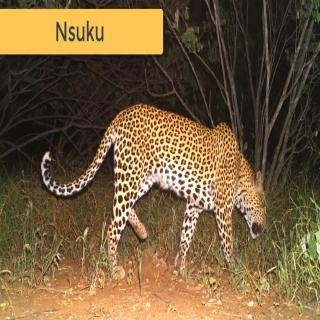Leopard: (41, 102, 268, 280)
